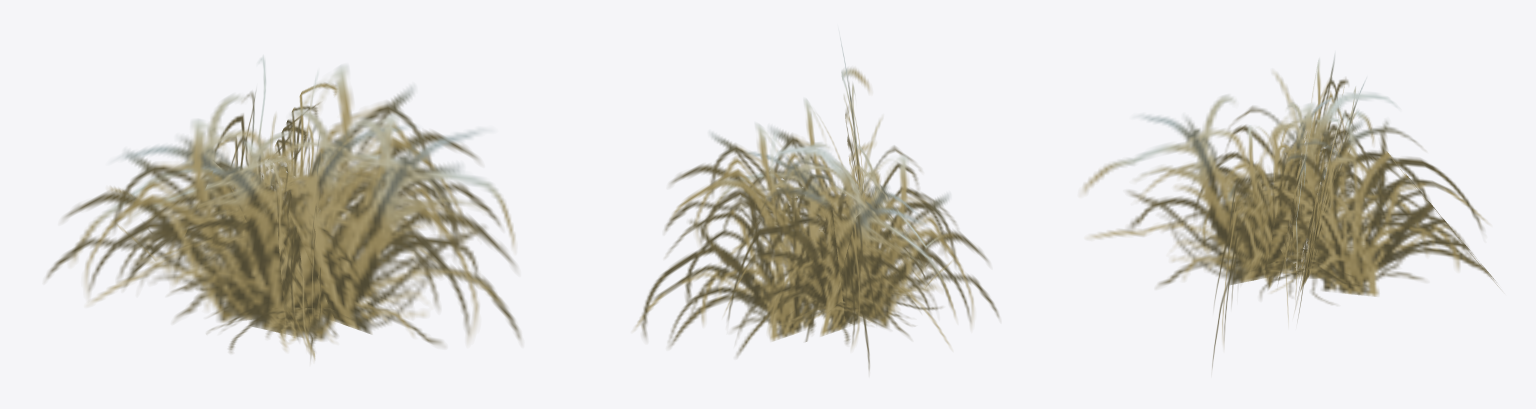
The model's file is ichu_05_nieve.glb.
3 renders of one model, left to right at view 1: azimuth 30°, elevation 25°; view 2: azimuth 150°, elevation 25°; view 3: azimuth 270°, elevation 25°, orthographic. The views are drawn at different scales.
Visible parts, largest first — view 1: Ichu; view 2: Ichu; view 3: Ichu.
Part boxes in pixels (bbox=[...]): Ichu: bbox=[46, 55, 521, 360]; Ichu: bbox=[634, 32, 999, 371]; Ichu: bbox=[1082, 54, 1499, 368].
Size of the model in its own units: 0.5183 by 0.31 by 0.5196.
1 material, 1 textured.
